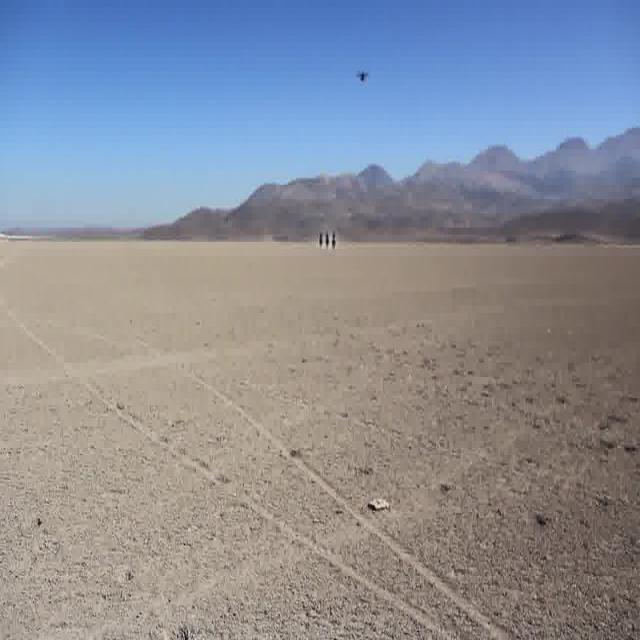drones: (352, 63, 374, 91)
